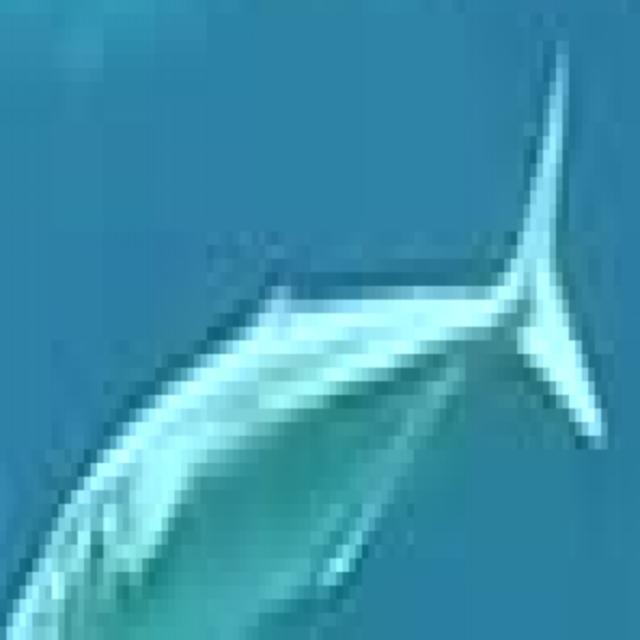fish: (6, 13, 639, 640)
